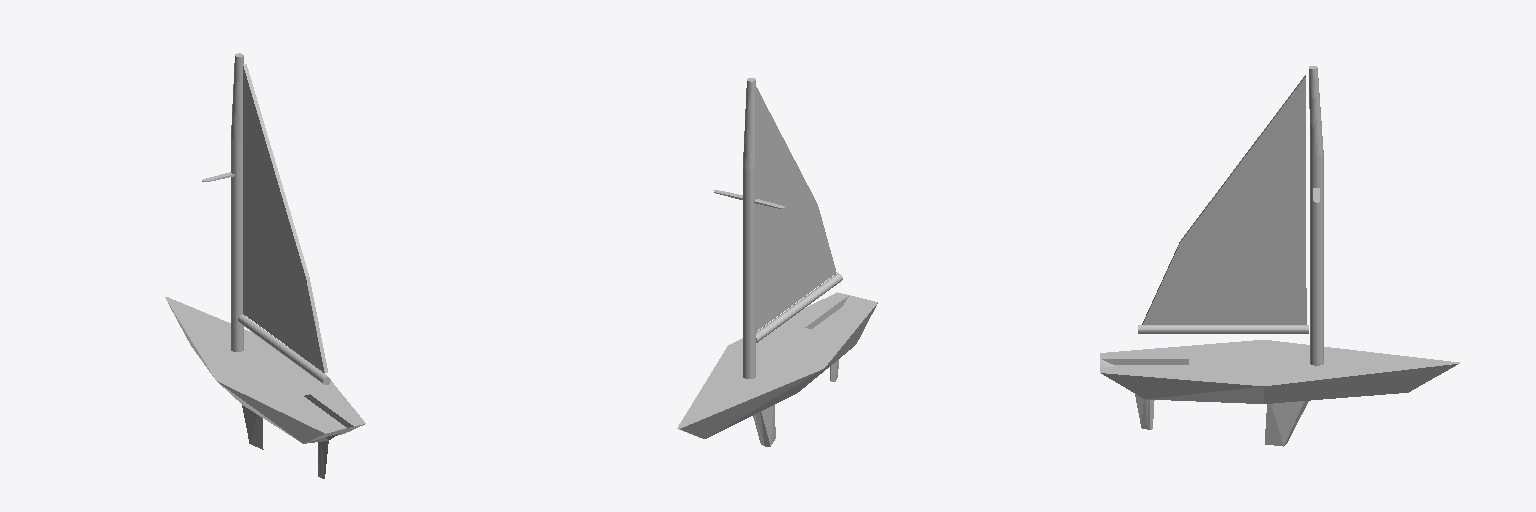
The model's file is boat.obj.
3 views of the same model, side by side, from view 1: azimuth 30°, elevation 25°; view 2: azimuth 150°, elevation 25°; view 3: azimuth 270°, elevation 25° (orthographic).
Visible parts, largest first — view 1: boat, sailsMain_Plane; view 2: boat, sailsMain_Plane; view 3: sailsMain_Plane, boat.
Boxes of the visible parts, x1=… form: boat: x1=165, y1=53, x2=365, y2=478; sailsMain_Plane: x1=238, y1=64, x2=330, y2=384; boat: x1=677, y1=78, x2=877, y2=446; sailsMain_Plane: x1=756, y1=87, x2=842, y2=342; sailsMain_Plane: x1=1138, y1=75, x2=1308, y2=333; boat: x1=1100, y1=66, x2=1459, y2=446.
Size of the model in its own units: 4.68 by 17.57 by 15.18.